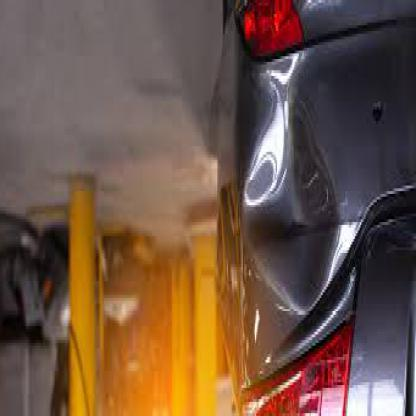dent: (244, 88, 338, 306)
